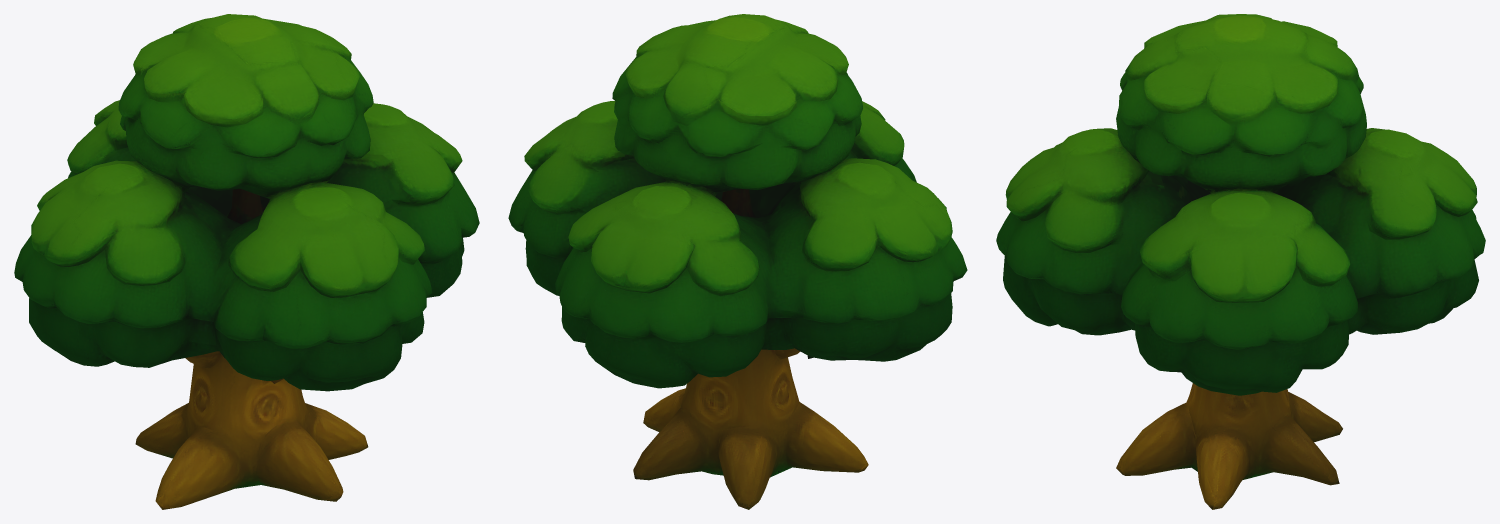
File: Tree.glb
3 views of the same model, side by side, from view 1: azimuth 30°, elevation 25°; view 2: azimuth 150°, elevation 25°; view 3: azimuth 270°, elevation 25° (orthographic).
Parts seen in each view (by area): view 1: world_0; view 2: world_0; view 3: world_0.
Part boxes in pixels (box(x1,y1,x2,y2)): world_0: box(14, 14, 479, 509); world_0: box(508, 14, 967, 509); world_0: box(996, 14, 1485, 509).
Bounding box in the file's own units: 0.479 × 0.4709 × 0.4788.
Materials: 1 (1 with a texture image).
